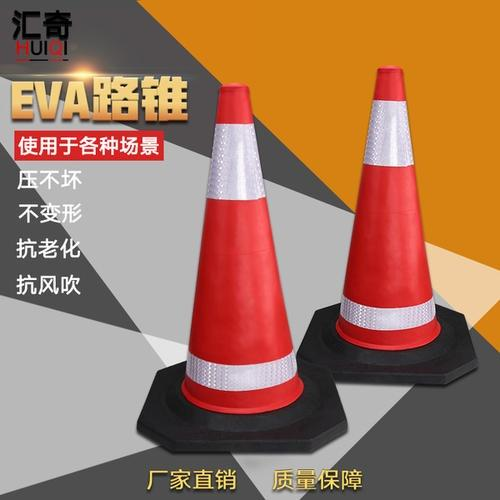cone_barrel: (167, 92, 311, 422), (326, 72, 452, 361)
